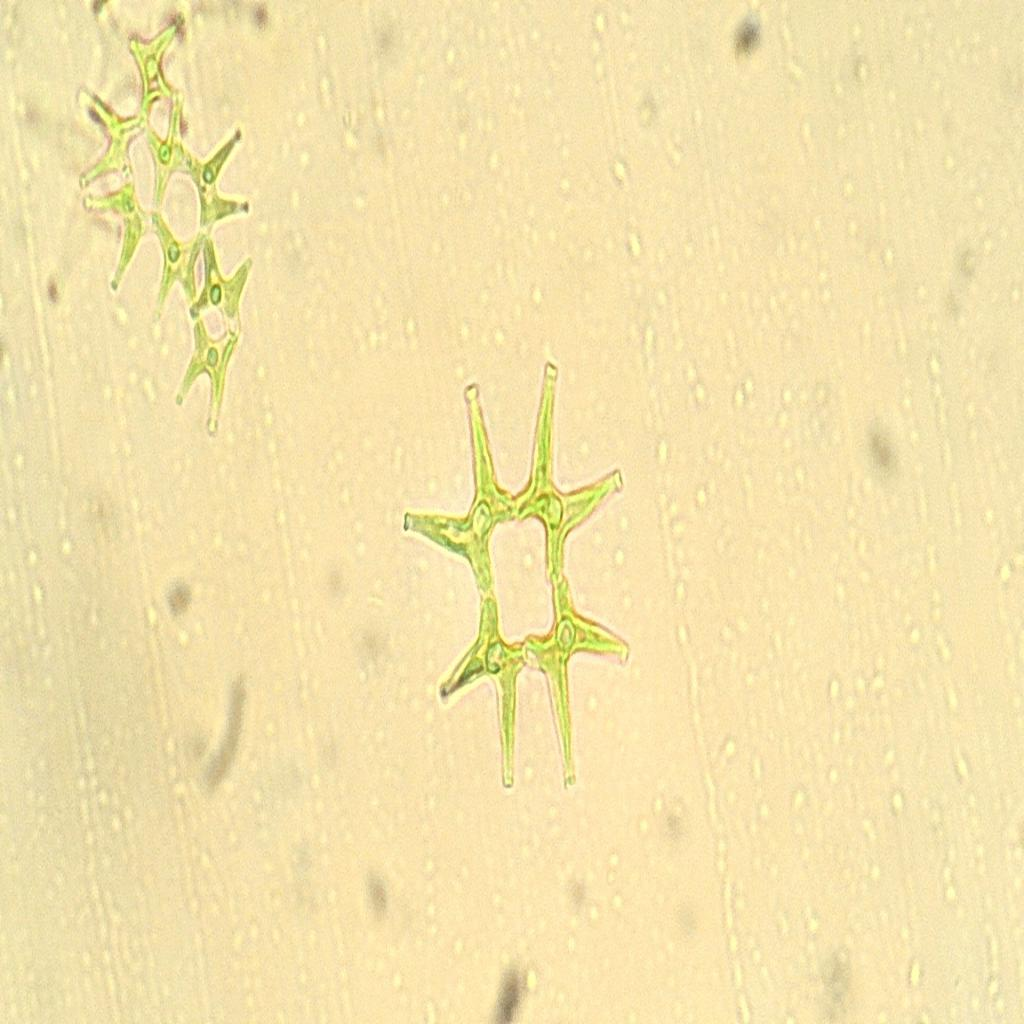Pediastrum_10: (384, 342, 648, 820)
